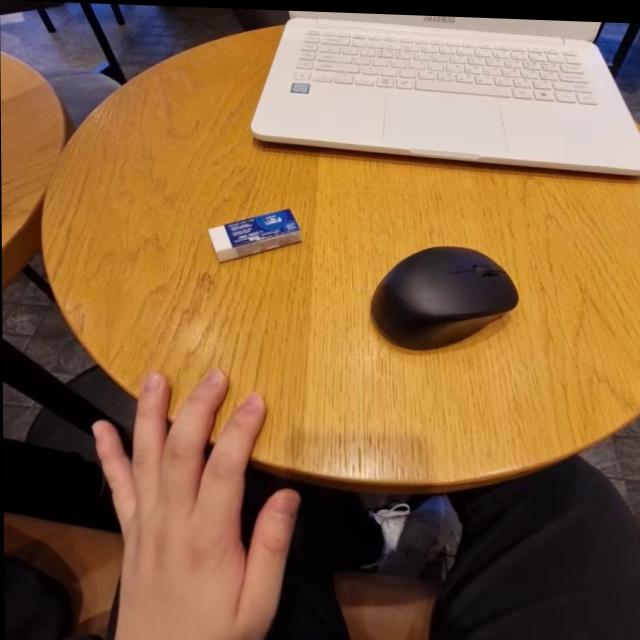eraser: (198, 203, 306, 269)
hand: (88, 361, 301, 640)
mouse: (360, 240, 528, 347)
